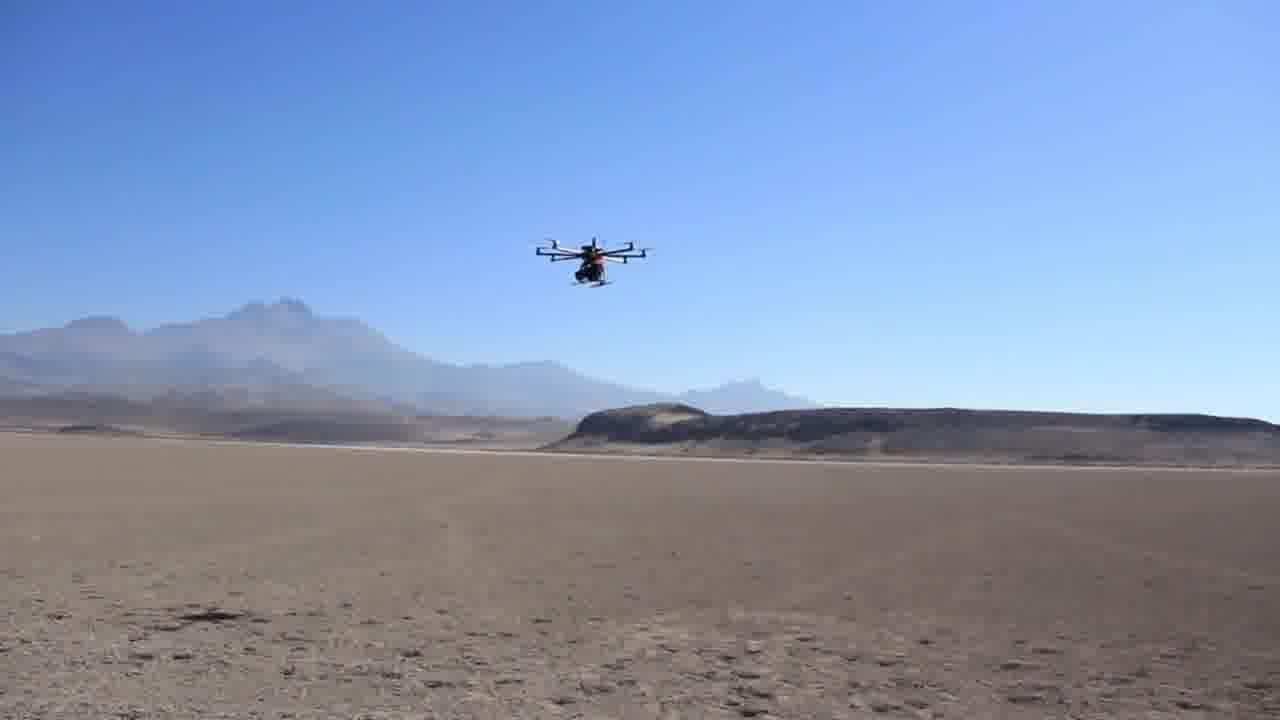drone: (524, 226, 656, 296)
